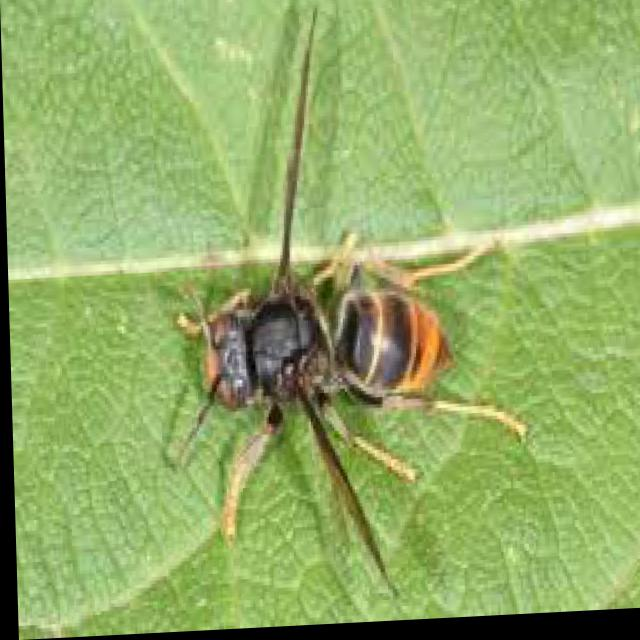Vespa Velutina: (151, 0, 535, 620)
